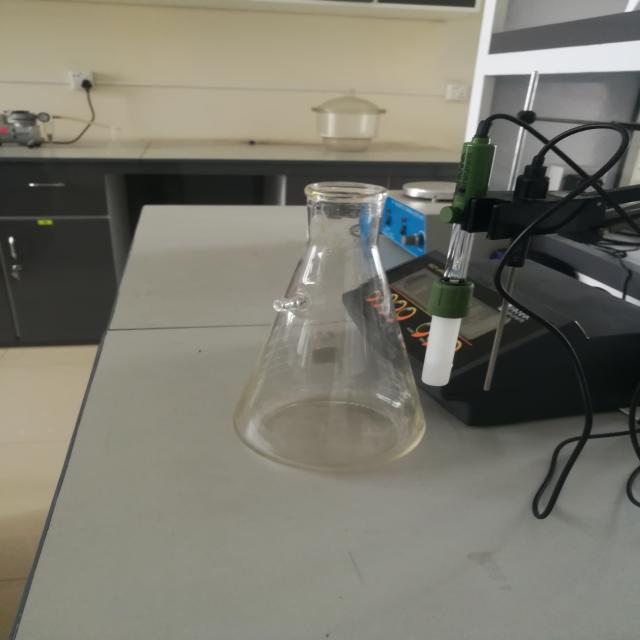Conical_Flask: (181, 139, 463, 500)
